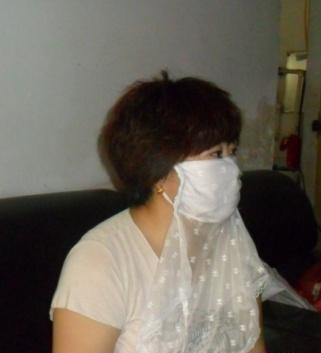face_mask: (172, 123, 238, 220)
